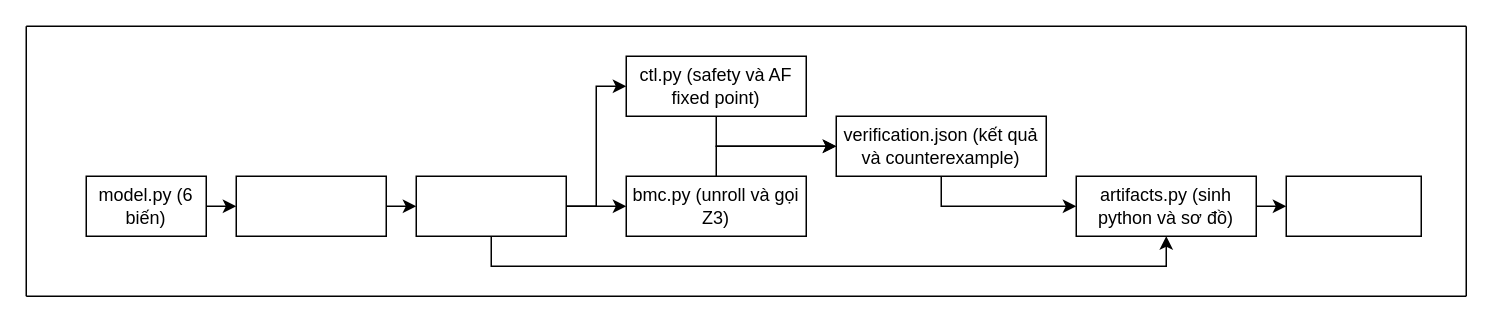
The diagram is 1494 pixels wide and 324 high, and some of its shapes have lost their labels. Each missing label, with the box of its shape:
generated/ và results/g4/: (1285, 175, 1421, 236)
kripke.py (BFS): (235, 175, 386, 236)
results/v0, v1 /model.json: (415, 175, 566, 236)
